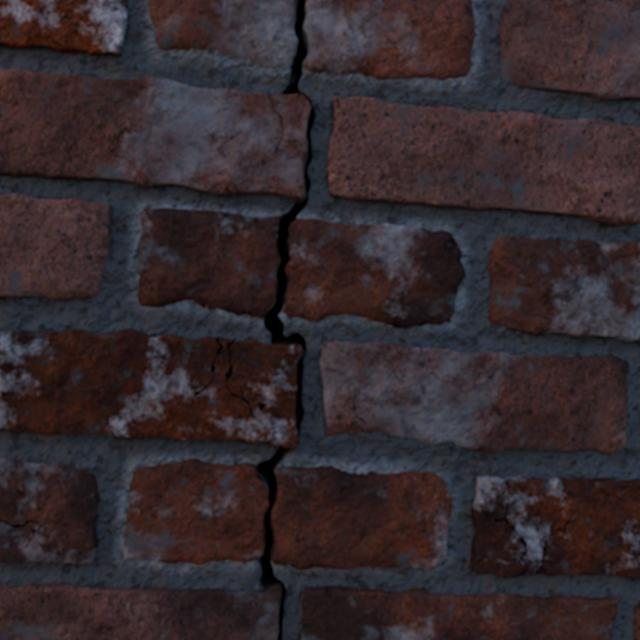broken_brick: (283, 219, 465, 328), (271, 466, 451, 570), (138, 208, 279, 317), (124, 458, 268, 564), (303, 0, 474, 79), (148, 0, 297, 68)
crack: (0, 0, 316, 639), (327, 95, 639, 225), (319, 340, 628, 453), (470, 476, 639, 579), (301, 586, 618, 639), (487, 236, 639, 341), (498, 0, 639, 99), (0, 194, 111, 301), (0, 457, 98, 563), (0, 0, 127, 55), (633, 603, 639, 639)
